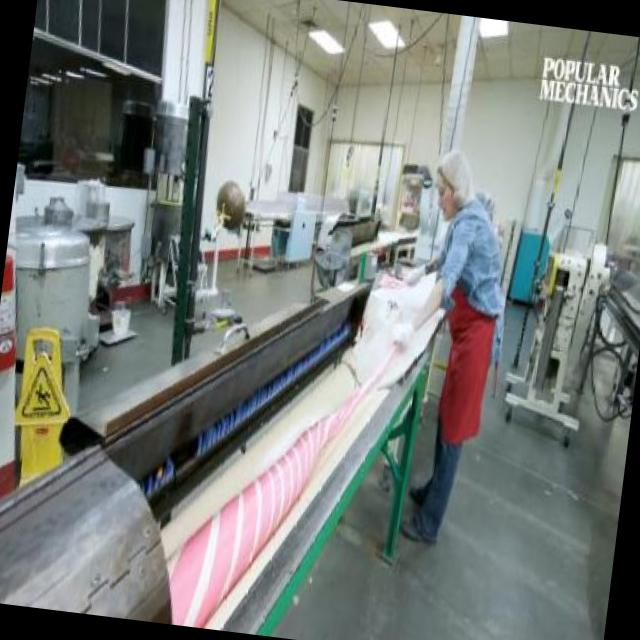hairnet: (436, 148, 475, 190)
